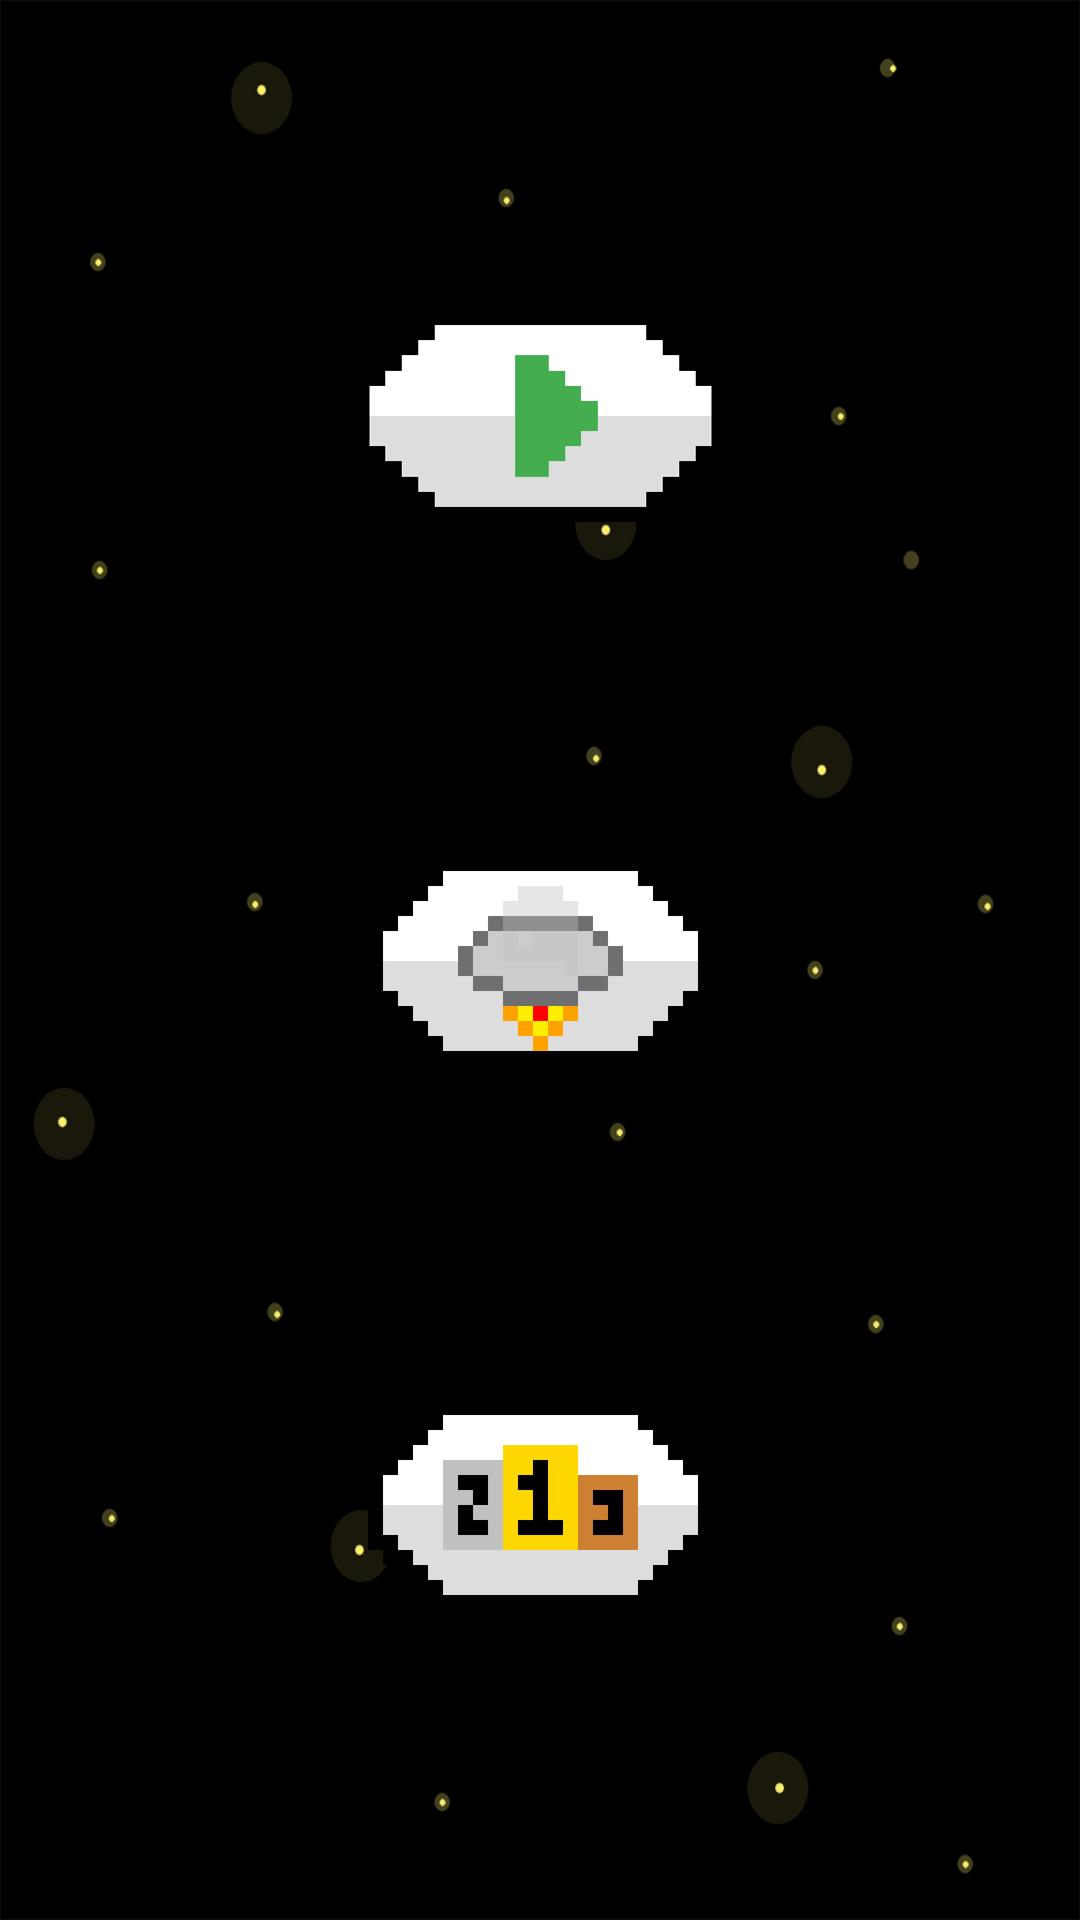

Where to tap for icons on this 1080 x 1920 app screen, as (x,y):
character select clickable: (540,961)
leader board clickable: (540,1505)
play clickable: (540,416)
